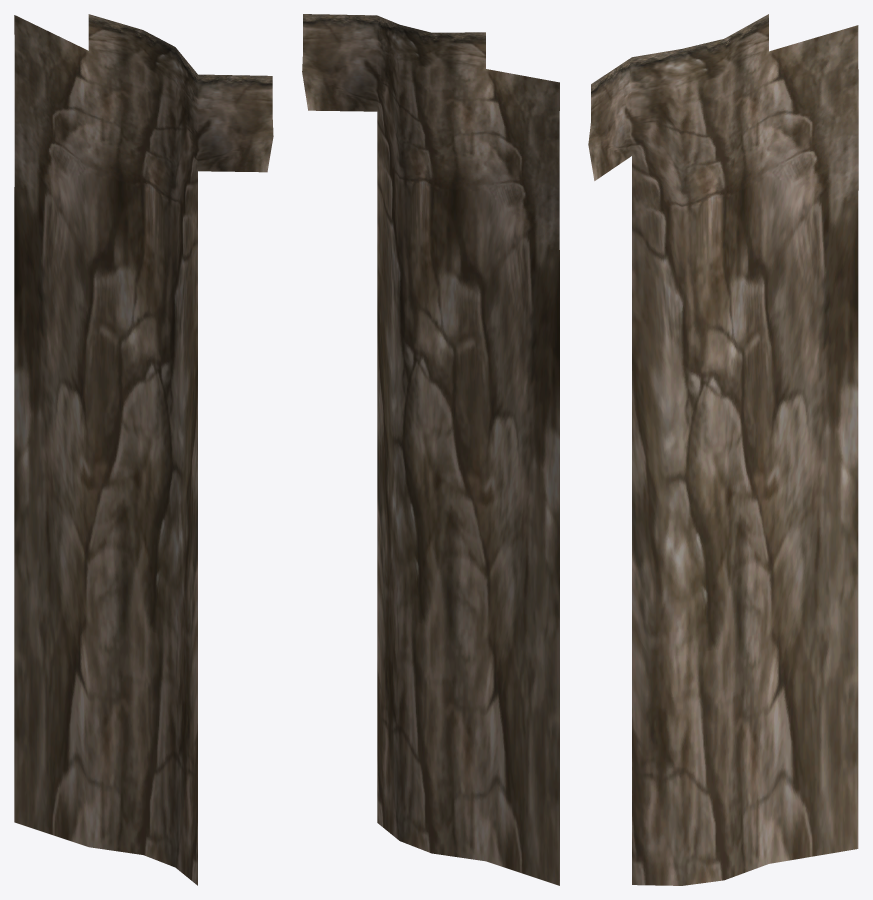
File: OVERHILL_A_01_LINE49.fbx
3 renders of one model, left to right at view 1: azimuth 30°, elevation 25°; view 2: azimuth 210°, elevation 25°; view 3: azimuth 270°, elevation 25°, orthographic. The views are drawn at different scales.
Visible parts, largest first — view 1: OVERHILL_A_01_LINE49; view 2: OVERHILL_A_01_LINE49; view 3: OVERHILL_A_01_LINE49.
Part boxes in pixels (left/top/right/bottom): OVERHILL_A_01_LINE49: left=14, top=14, right=273, bottom=885; OVERHILL_A_01_LINE49: left=302, top=14, right=559, bottom=885; OVERHILL_A_01_LINE49: left=588, top=14, right=858, bottom=885.
Size of the model in its own units: 27815 by 174369 by 50258.
Materials: 2 (2 with a texture image).
